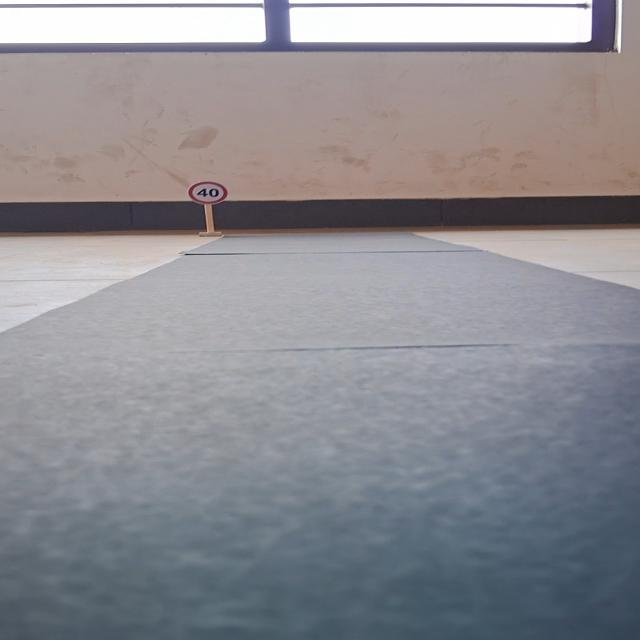Speed40: (182, 177, 236, 208)
